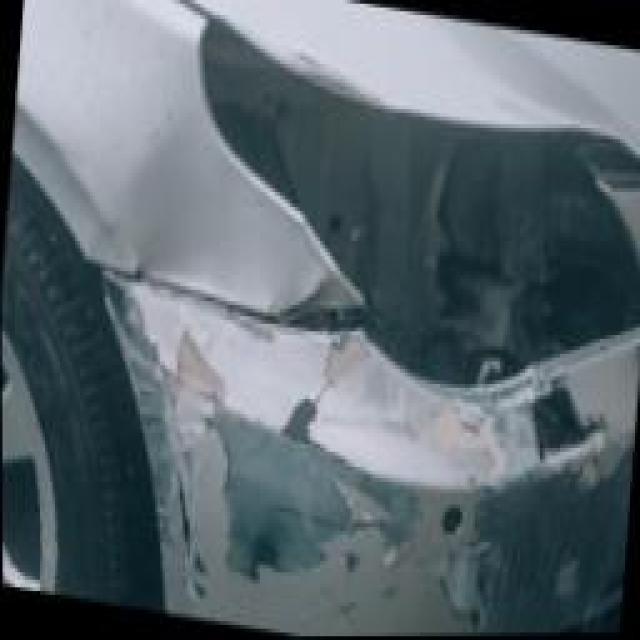Bumper: (102, 277, 640, 637)
Light: (204, 18, 640, 387)
